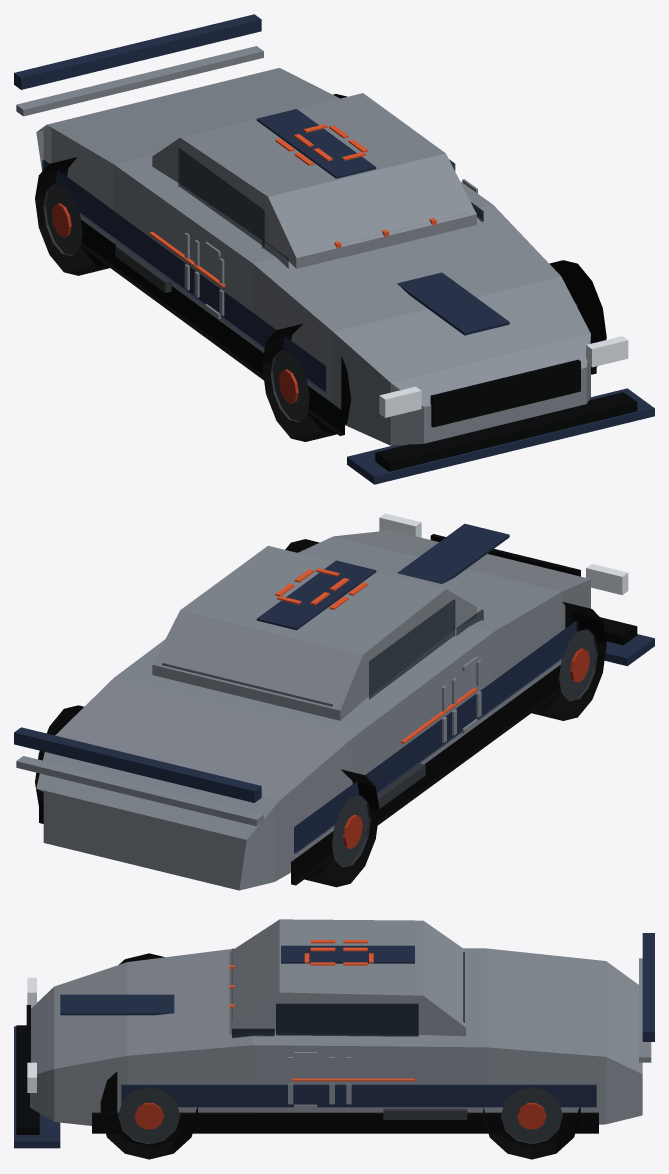
File: stock_car_10.obj
3 views of the same model, one above another, from view 1: azimuth 30°, elevation 25°; view 2: azimuth 150°, elevation 25°; view 3: azimuth 270°, elevation 25° (orthographic). The views are drawn at different scales.
Parts seen in each view (by area): view 1: StockCar_10; view 2: StockCar_10; view 3: StockCar_10.
Boxes of the visible parts, <box> form: StockCar_10: <box>14,14,654,484</box>; StockCar_10: <box>14,513,654,890</box>; StockCar_10: <box>14,919,654,1159</box>.
Bounding box in the file's own units: 2.35 × 1.34 × 5.26.
